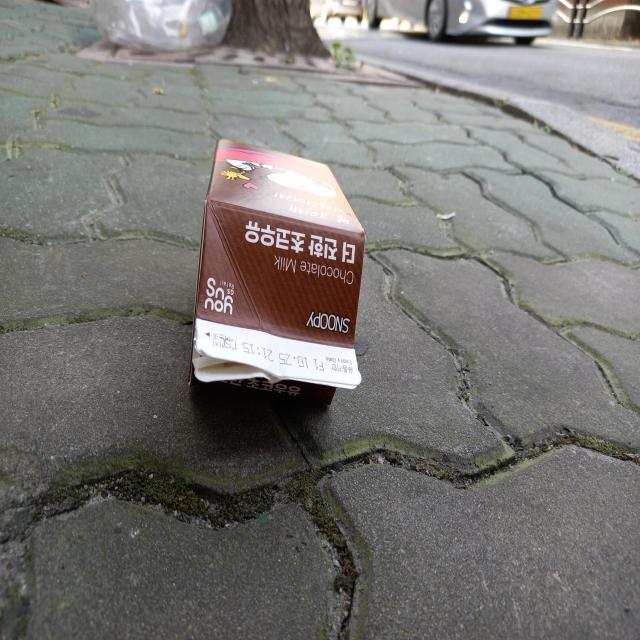paperpack: (190, 138, 365, 404)
